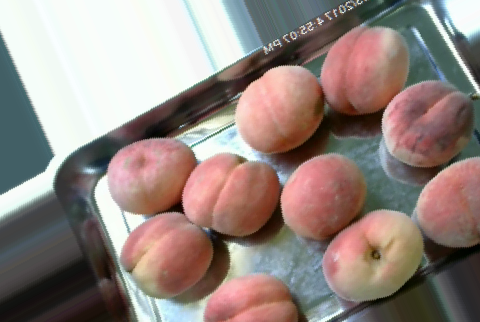Peach: (321, 210, 425, 301), (118, 212, 213, 298), (383, 80, 473, 169), (180, 154, 277, 236), (235, 64, 323, 152), (321, 25, 408, 114), (279, 153, 368, 239), (103, 137, 195, 214), (413, 157, 478, 251), (202, 270, 297, 321)
